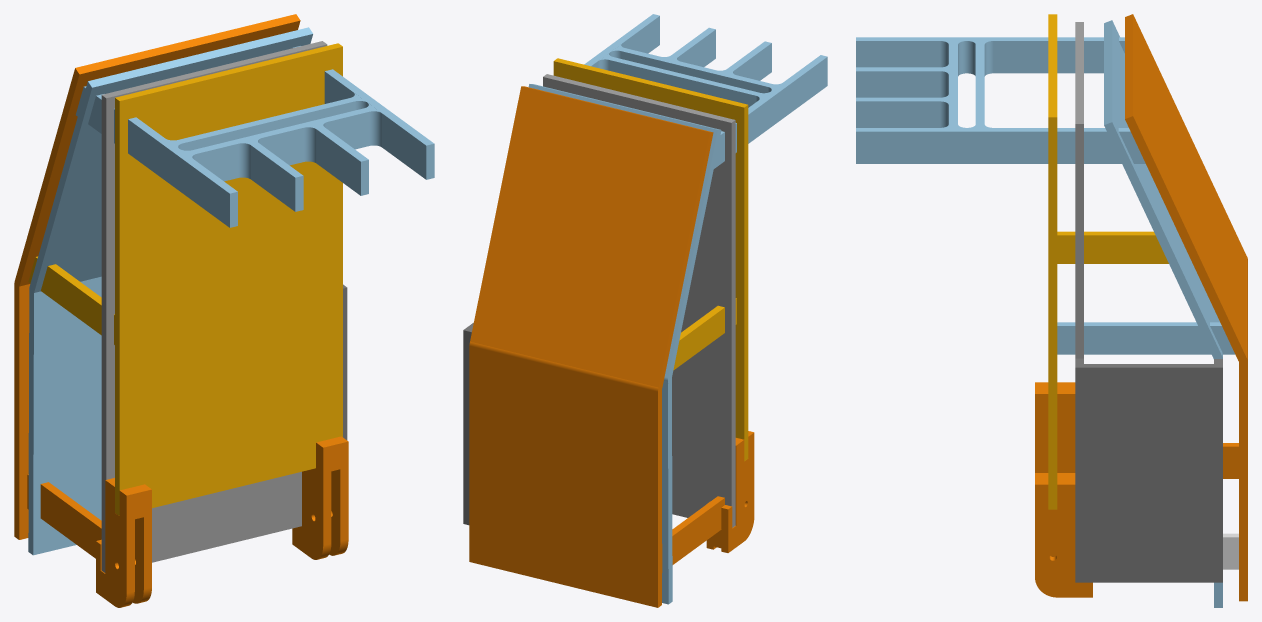
The picture shows the model from 3 angles, left to right: view 1: azimuth 30°, elevation 25°; view 2: azimuth 150°, elevation 25°; view 3: azimuth 270°, elevation 25°; orthographic projection. The views are drawn at different scales.
Parts seen in each view (by area): view 1: 6976225ce1fff309fdd4f99f (×10); view 2: 6976225ce1fff309fdd4f99f (×9); view 3: 6976225ce1fff309fdd4f99f (×12).
Part boxes in pixels (x1,y1,x2,y2): 6976225ce1fff309fdd4f99f (×10): (14,14,434,607); 6976225ce1fff309fdd4f99f (×9): (463,14,827,607); 6976225ce1fff309fdd4f99f (×12): (856,14,1247,607).
Size of the model in its own units: 0.2955 by 0.4382 by 0.6066.
